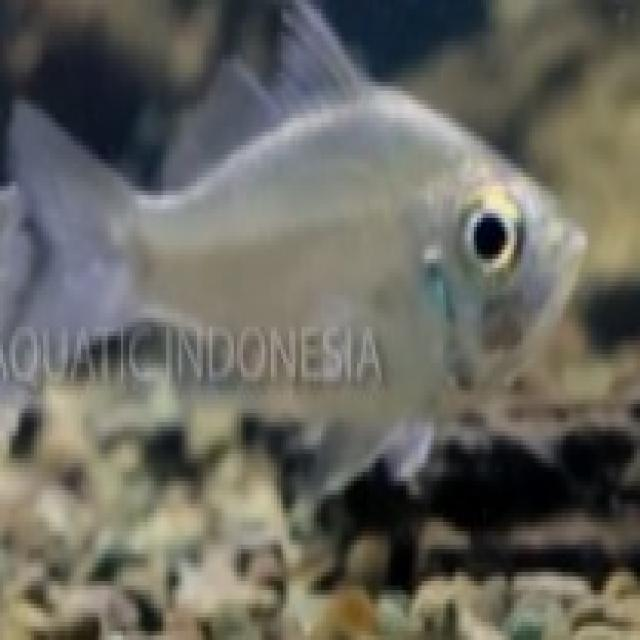Glass-Perchlet: (0, 0, 600, 554)
